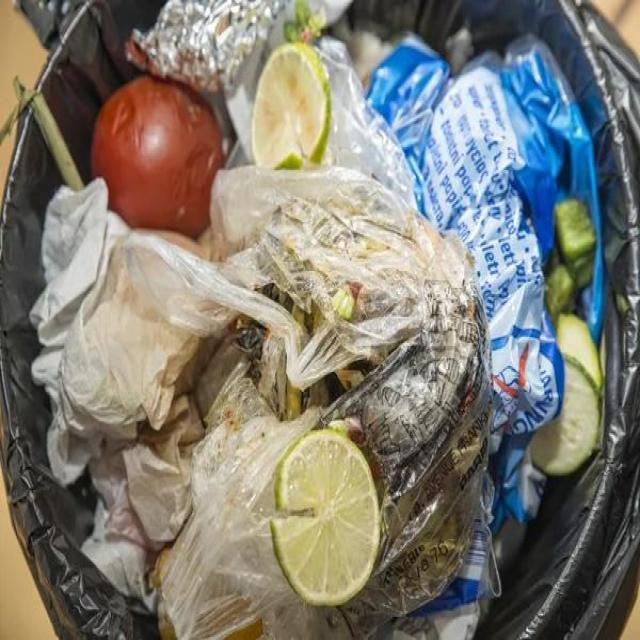Garbage: (29, 30, 490, 640), (368, 36, 608, 525), (126, 0, 294, 161), (315, 39, 414, 205)
Metal: (126, 0, 284, 92)
Plastic: (314, 36, 418, 208)
contaminated_waste: (30, 167, 489, 638), (30, 167, 475, 613)
